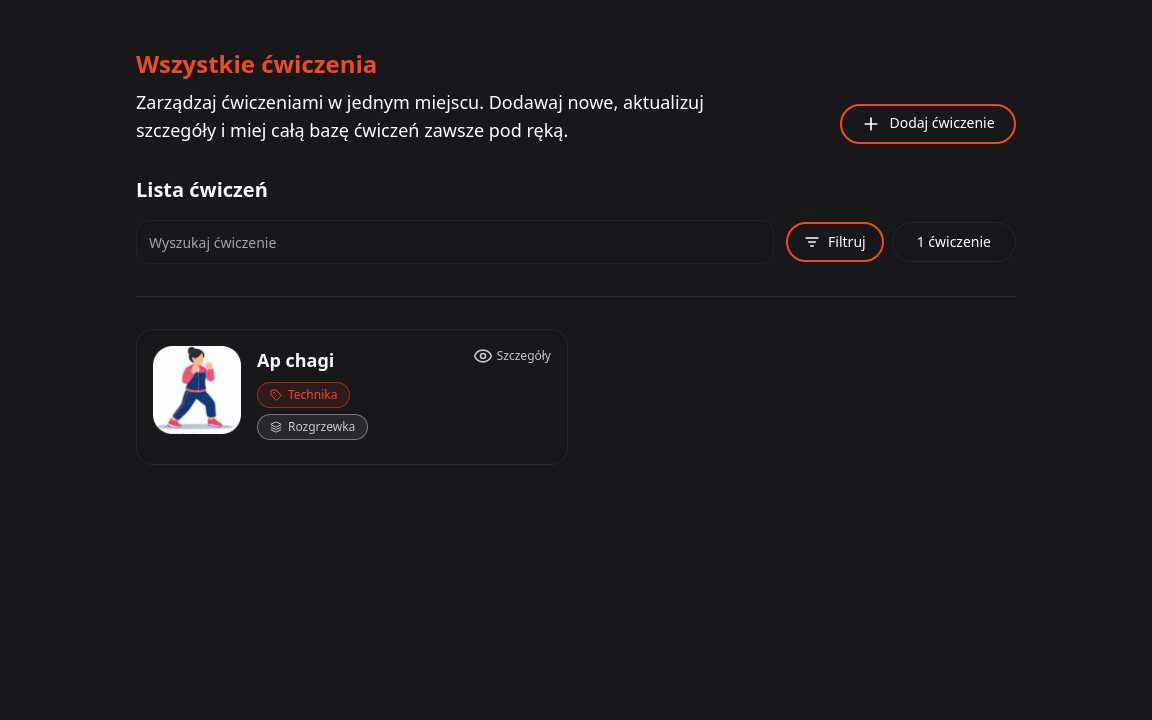
Test: ExerciseListPage › does not offer editing from a global exercise preview
Click the button with aria-label "Pokaż szczegóły: Ap chagi" at x=512, y=356, box [473, 346, 551, 366]
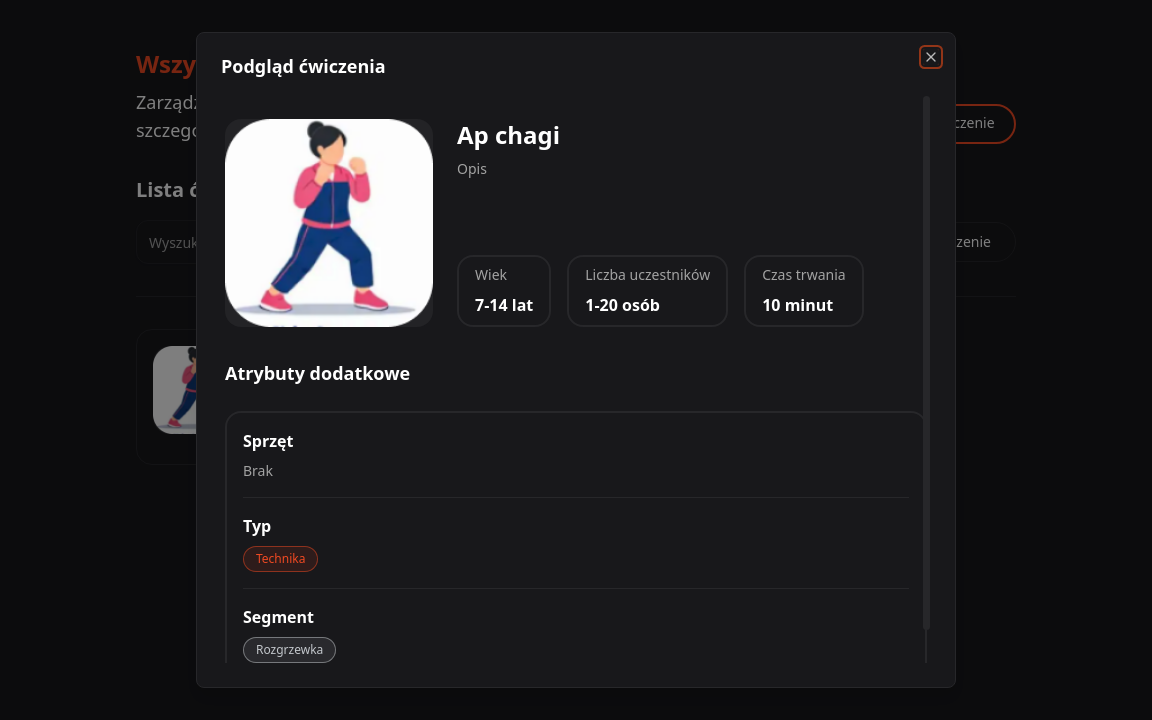
Result: the heading "Podgląd ćwiczenia" is shown at [221, 54, 386, 78]
